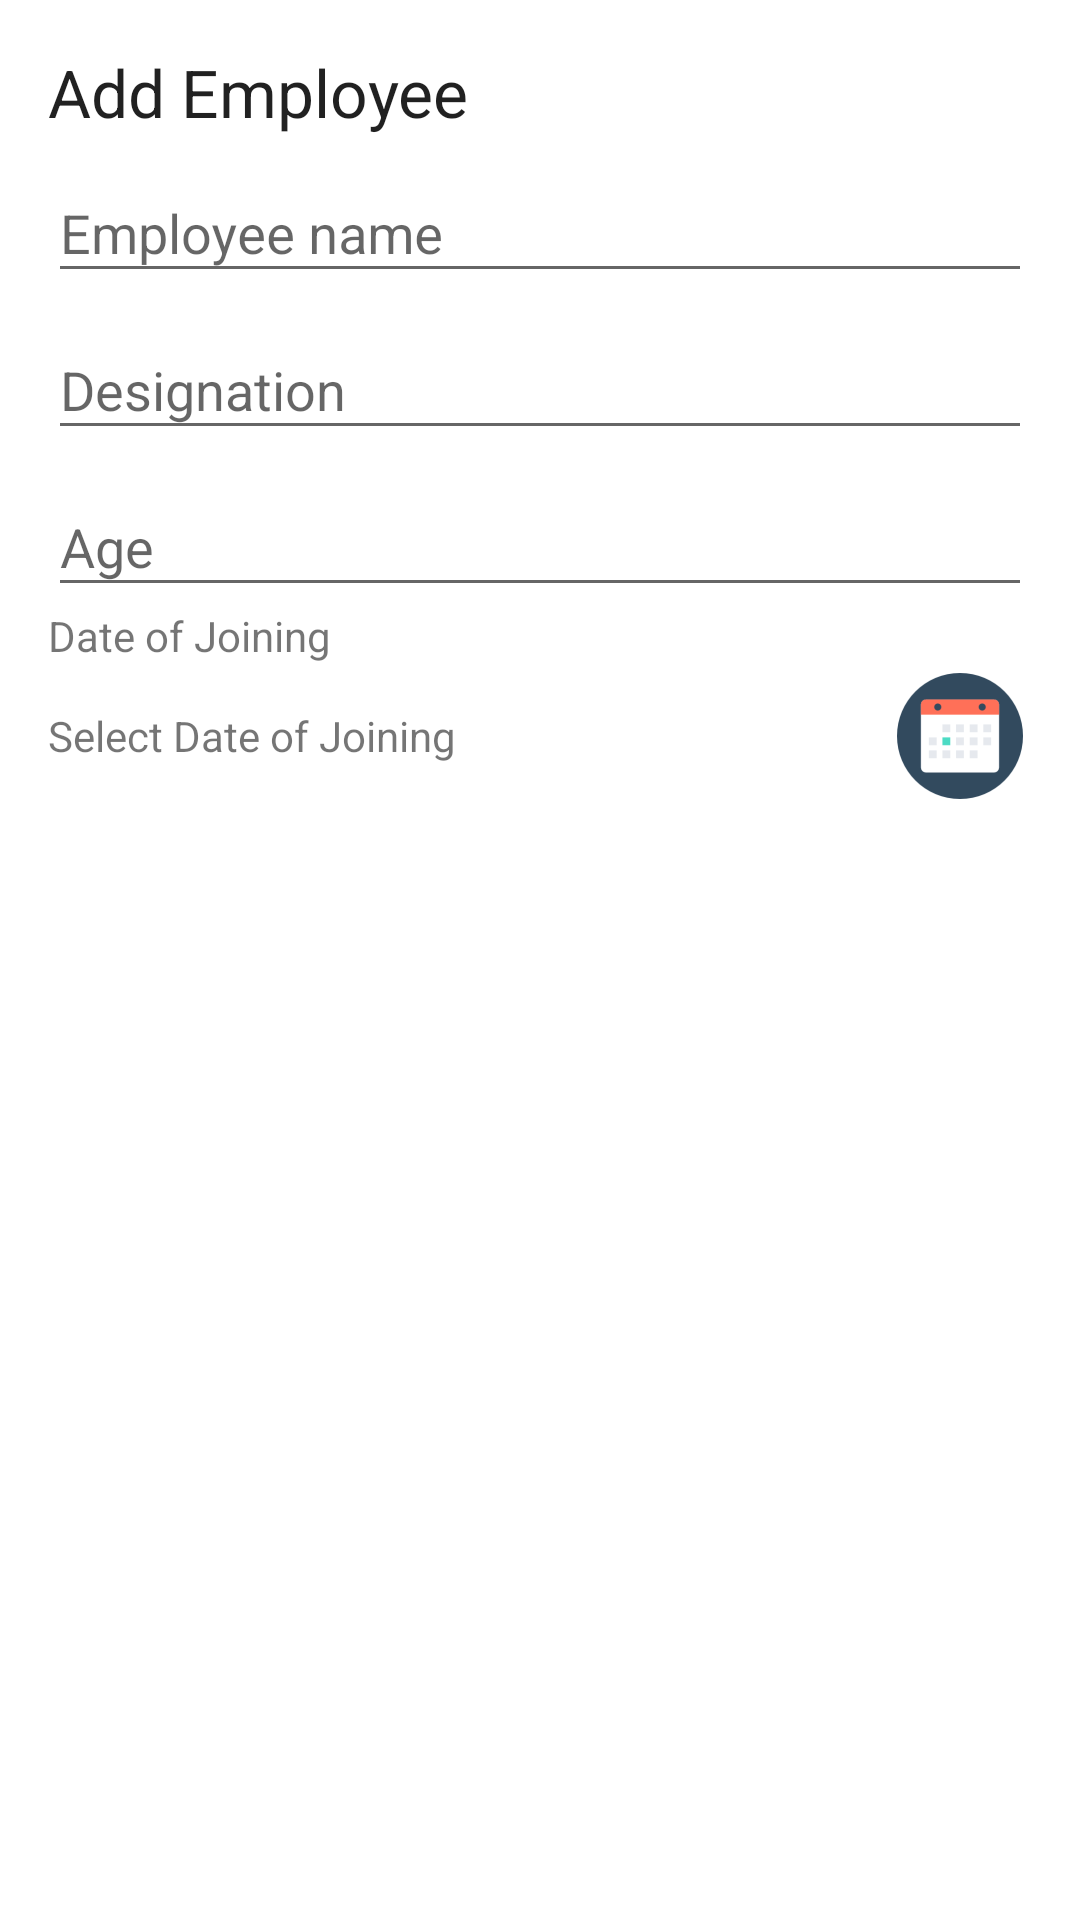

Locate icon controls on the screen. Image size 1080px×1920px, boxes as (x1, y1, x2, y2).
calendar: (897, 673, 1023, 799)
